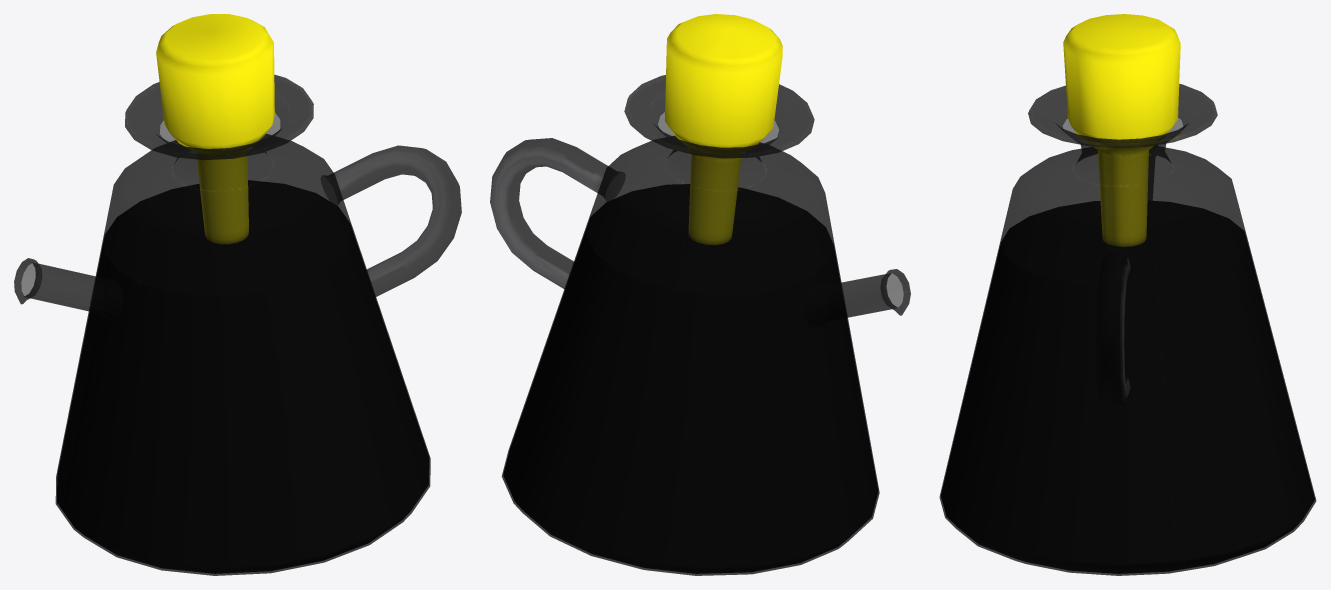
The model's file is soysauce2.fbx.
The picture shows the model from 3 angles, left to right: view 1: azimuth 30°, elevation 25°; view 2: azimuth 150°, elevation 25°; view 3: azimuth 270°, elevation 25°; orthographic projection.
Parts seen in each view (by area): view 1: node_id7 (×3); view 2: node_id7 (×3); view 3: node_id7 (×3).
Boxes of the visible parts, x1,y1,x2,y2 form: node_id7 (×3): (14,14,461,575); node_id7 (×3): (490,14,910,575); node_id7 (×3): (939,14,1316,575).
Size of the model in its own units: 0.4755 by 0.5221 by 0.3657.
3 materials, 3 textured.
